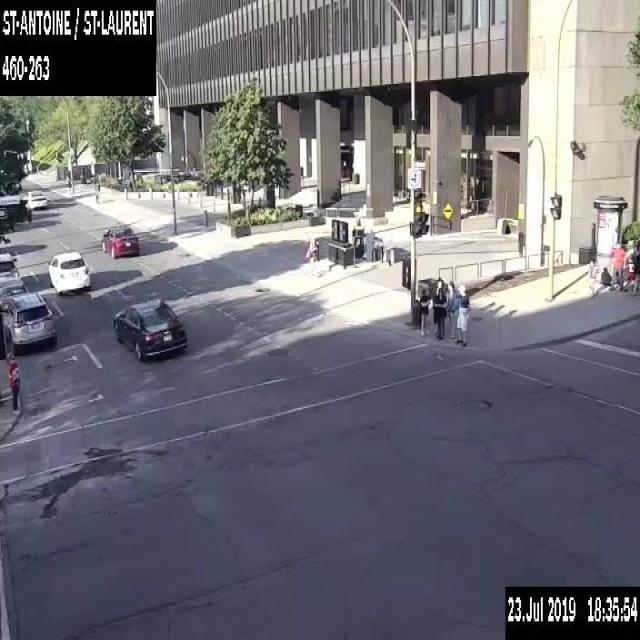pedestrian: (456, 284, 470, 346), (6, 349, 20, 411), (433, 286, 447, 340), (446, 279, 458, 338), (611, 242, 625, 290), (432, 277, 443, 334), (627, 243, 639, 295), (418, 286, 430, 335), (304, 234, 316, 276), (64, 173, 70, 191)
vehicle: (113, 297, 187, 360), (1, 290, 56, 354), (47, 249, 91, 295), (101, 224, 138, 257), (0, 275, 29, 301), (0, 252, 18, 280), (23, 190, 46, 210)
